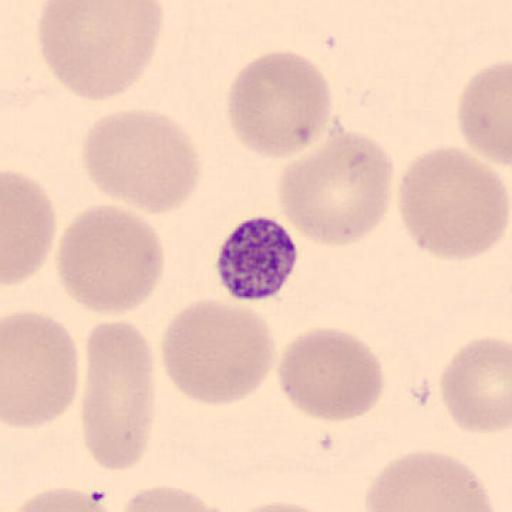Platelet: (212, 214, 300, 302)
RBC: (276, 129, 395, 248), (396, 144, 511, 262), (79, 107, 203, 215), (159, 295, 276, 407), (35, 1, 164, 102), (56, 203, 166, 317), (78, 321, 157, 473), (226, 50, 334, 160), (276, 325, 387, 423), (2, 308, 80, 430), (363, 450, 500, 512), (439, 335, 512, 435), (1, 169, 57, 287), (456, 58, 512, 167), (119, 484, 228, 512), (6, 485, 116, 512), (230, 500, 334, 512)
